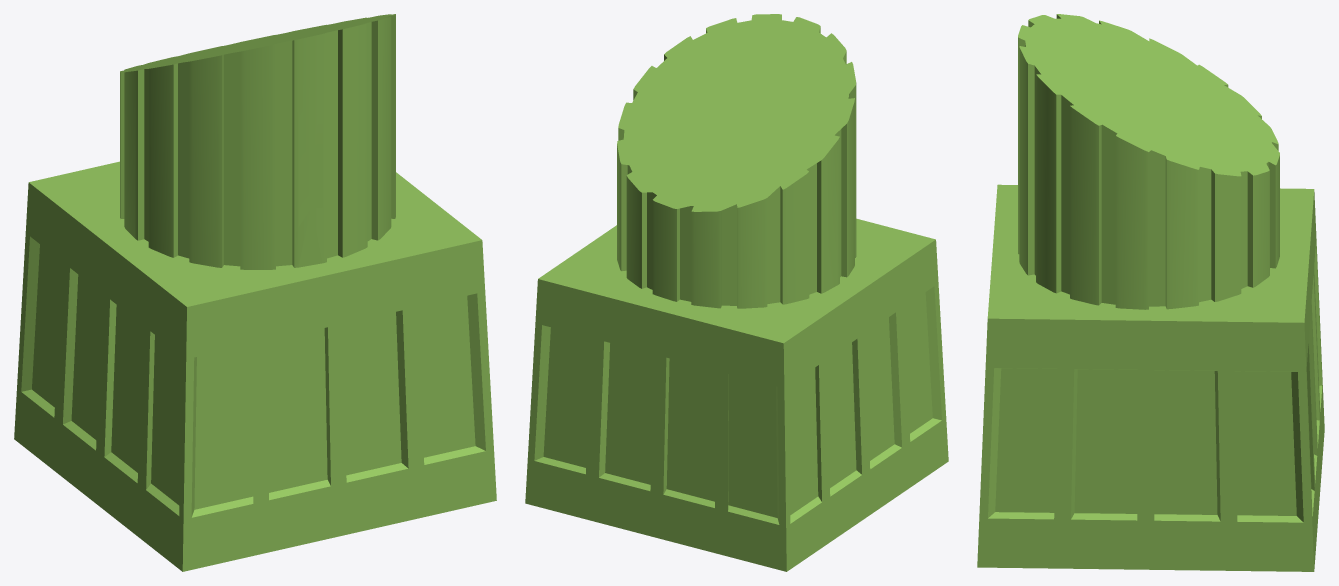
Rendered from ColumnHalf4.obj.
The picture shows the model from 3 angles, left to right: view 1: azimuth 30°, elevation 25°; view 2: azimuth 150°, elevation 25°; view 3: azimuth 270°, elevation 25°; orthographic projection. The views are drawn at different scales.
Visible parts, largest first — view 1: ColumnHalf4; view 2: ColumnHalf4; view 3: ColumnHalf4.
Boxes of the visible parts, <box> form: ColumnHalf4: <box>14,14,496,571</box>; ColumnHalf4: <box>525,14,948,571</box>; ColumnHalf4: <box>977,14,1324,571</box>.
Size of the model in its own units: 7.4 by 10.84 by 7.4.
